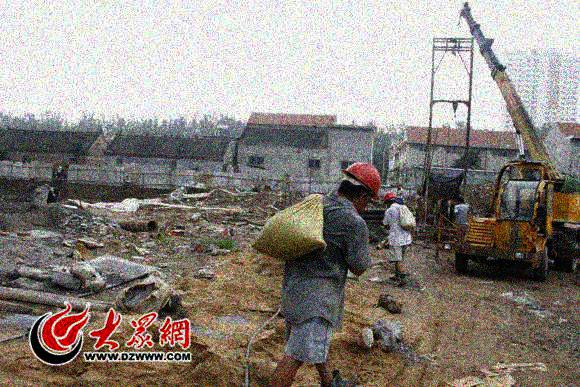helmet: (340, 162, 380, 210), (384, 192, 397, 208)
